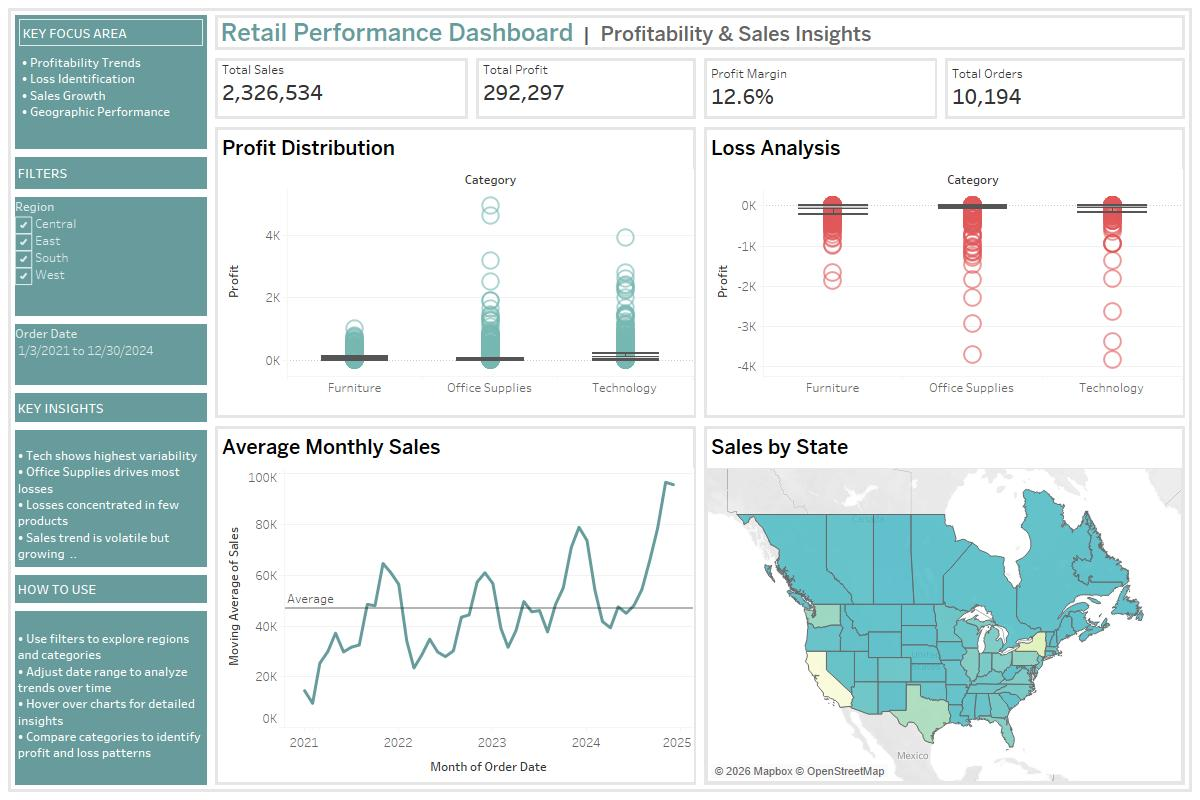

Layout of this report page (visuals, bound fields, positions):
{"tool":"tableau","page":{"name":"Dashboard 2","canvas":[1200,800],"ordinal":1},"visuals":[{"type":"text","box":[211.1,11,977.9,42.7]},{"type":"text","box":[15,15,192.1,35]},{"type":"text","box":[15,50,192.1,76]},{"type":"worksheet","title":"KPI - Total Sales","mark":"Automatic","box":[211.1,53.7,261.3,69.5]},{"type":"worksheet","title":"KPI - Total Profit","mark":"Automatic","box":[472.4,53.7,227.6,69.5]},{"type":"worksheet","title":"KPI - Profit Margin","mark":"Automatic","box":[700,53.7,241.1,69.5]},{"type":"worksheet","title":"KPI - Total Orders","mark":"Automatic","box":[941.1,53.7,247.9,69.5]},{"type":"worksheet","title":"Profit Distribution","mark":"Automatic","rows":["Profit"],"cols":["Category"],"box":[211.1,123.1,488.9,298.7]},{"type":"worksheet","title":"Loss Analysis","mark":"Automatic","rows":["Profit"],"cols":["Category"],"box":[700,123.1,489,298.7]},{"type":"text","box":[11,153,200.1,40]},{"type":"filter","title":"Sales by State","param":"[Sample - Superstore].[none:Region:nk]","box":[11,193,200.1,127]},{"type":"filter","title":"Sales Trend (Cumulative)","param":"[Sample - Superstore].[none:Order Date:qk]","box":[11,320,200.1,69]},{"type":"text","box":[11,389,200.1,37]},{"type":"worksheet","title":"Sales Trend (Cumulative)","mark":"Line","rows":["Sales"],"cols":["Order Date"],"box":[211.1,421.8,488.9,367.2]},{"type":"worksheet","title":"Sales by State","mark":"Automatic","box":[700,421.8,489,367.2]},{"type":"text","box":[11,426,200.1,145]},{"type":"text","box":[11,571,200.1,36]},{"type":"text","box":[11,607,200.1,182]}]}

Visuals, with their boxes in screenshot pixels (x1, y1, x2, y2), scaled from the page's 1200x800 canvas onto the 1200x800 screenshot:
text: (left=211, top=11, right=1189, bottom=54)
text: (left=15, top=15, right=207, bottom=50)
text: (left=15, top=50, right=207, bottom=126)
"KPI - Total Sales" worksheet: (left=211, top=54, right=472, bottom=123)
"KPI - Total Profit" worksheet: (left=472, top=54, right=700, bottom=123)
"KPI - Profit Margin" worksheet: (left=700, top=54, right=941, bottom=123)
"KPI - Total Orders" worksheet: (left=941, top=54, right=1189, bottom=123)
"Profit Distribution" worksheet: (left=211, top=123, right=700, bottom=422)
"Loss Analysis" worksheet: (left=700, top=123, right=1189, bottom=422)
text: (left=11, top=153, right=211, bottom=193)
"Sales by State" filter: (left=11, top=193, right=211, bottom=320)
"Sales Trend (Cumulative)" filter: (left=11, top=320, right=211, bottom=389)
text: (left=11, top=389, right=211, bottom=426)
"Sales Trend (Cumulative)" worksheet (Line marks): (left=211, top=422, right=700, bottom=789)
"Sales by State" worksheet: (left=700, top=422, right=1189, bottom=789)
text: (left=11, top=426, right=211, bottom=571)
text: (left=11, top=571, right=211, bottom=607)
text: (left=11, top=607, right=211, bottom=789)
